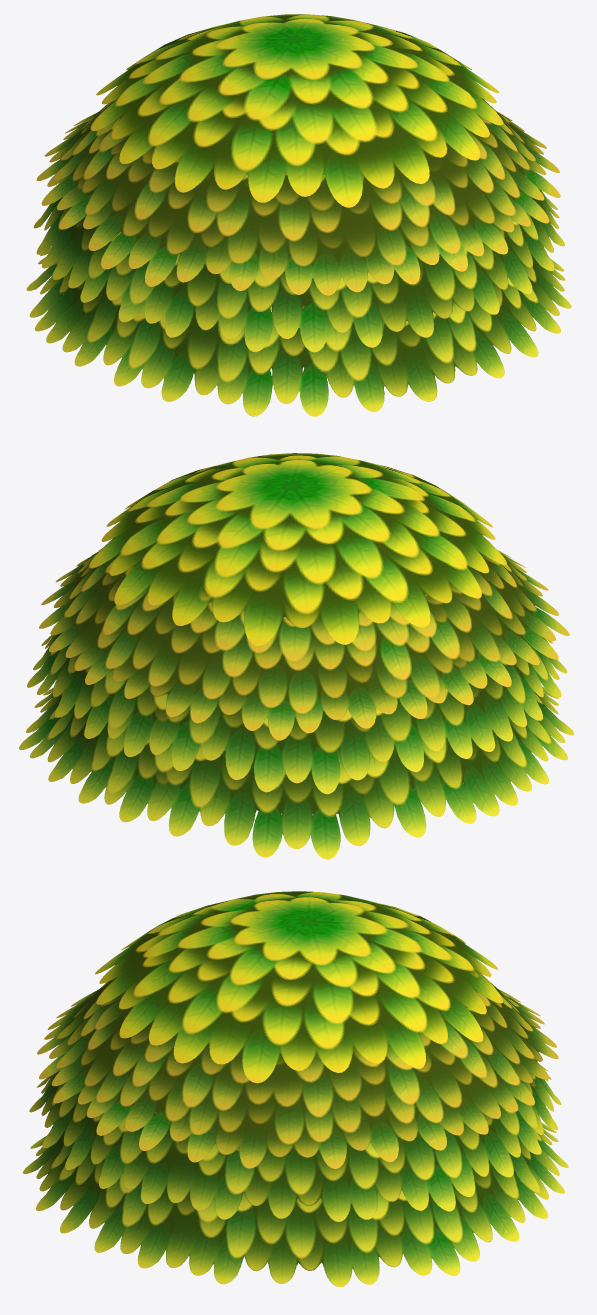
The model's file is stylized_bush.glb.
3 views of the same model, one above another, from view 1: azimuth 30°, elevation 25°; view 2: azimuth 150°, elevation 25°; view 3: azimuth 270°, elevation 25° (orthographic).
Parts seen in each view (by area): view 1: Sphere.016_2, Sphere.015_1, Sphere.018_3, Sphere.014_0; view 2: Sphere.016_2, Sphere.015_1, Sphere.018_3, Sphere.014_0; view 3: Sphere.016_2, Sphere.015_1, Sphere.018_3, Sphere.014_0.
Part boxes in pixels (left/top/right/bottom): Sphere.016_2: left=90, top=14, right=503, bottom=207; Sphere.015_1: left=36, top=98, right=560, bottom=295; Sphere.018_3: left=26, top=247, right=571, bottom=416; Sphere.014_0: left=33, top=175, right=564, bottom=352; Sphere.016_2: left=89, top=453, right=506, bottom=645; Sphere.015_1: left=39, top=538, right=569, bottom=740; Sphere.018_3: left=19, top=686, right=574, bottom=859; Sphere.014_0: left=27, top=632, right=567, bottom=794; Sphere.016_2: left=95, top=891, right=502, bottom=1083; Sphere.015_1: left=37, top=972, right=558, bottom=1168; Sphere.018_3: left=22, top=1123, right=568, bottom=1286; Sphere.014_0: left=29, top=1065, right=561, bottom=1221.
Bounding box in the file's own units: 1.06 × 0.5376 × 1.06.
1 material, 1 textured.
